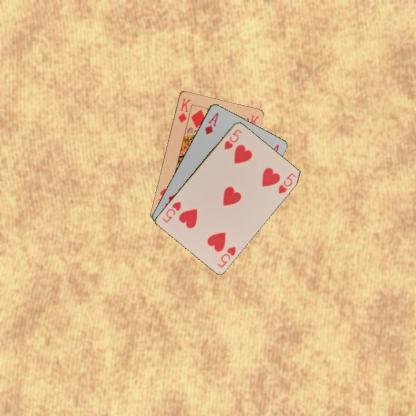5h: (221, 126, 244, 150), (214, 244, 237, 268)
Ad: (202, 110, 220, 136)
Kd: (176, 96, 192, 124)
